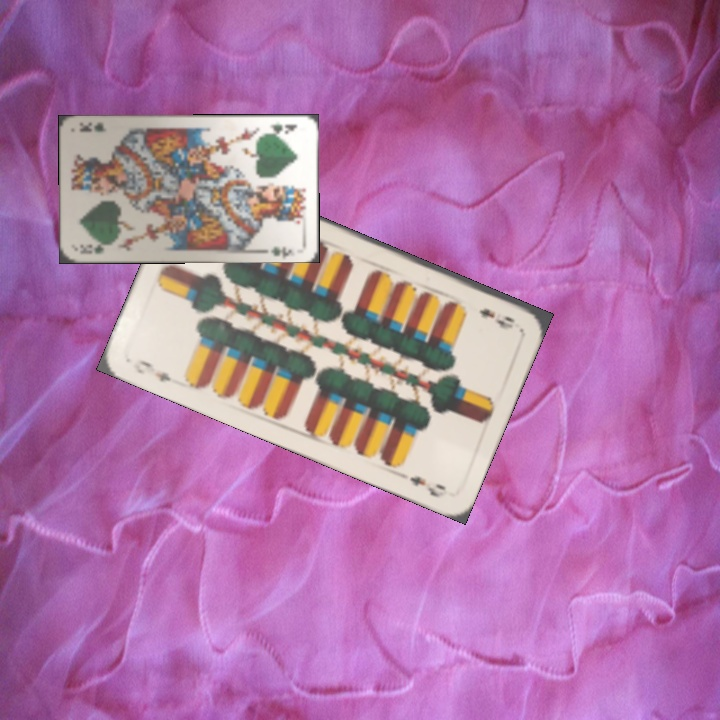E9: (128, 355, 174, 385), (475, 304, 518, 332)
GK: (262, 120, 300, 137), (76, 239, 106, 257)
